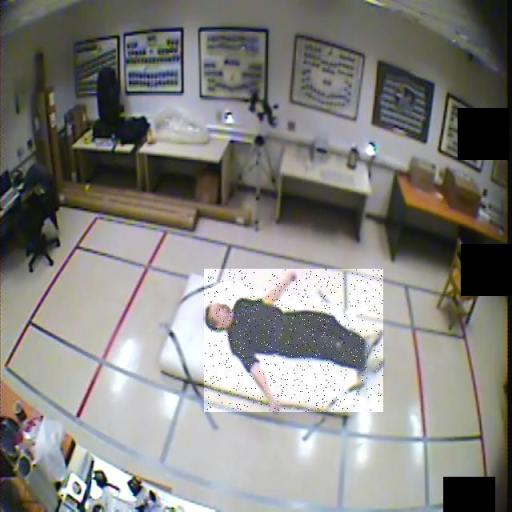Fall: (204, 269, 383, 412)
